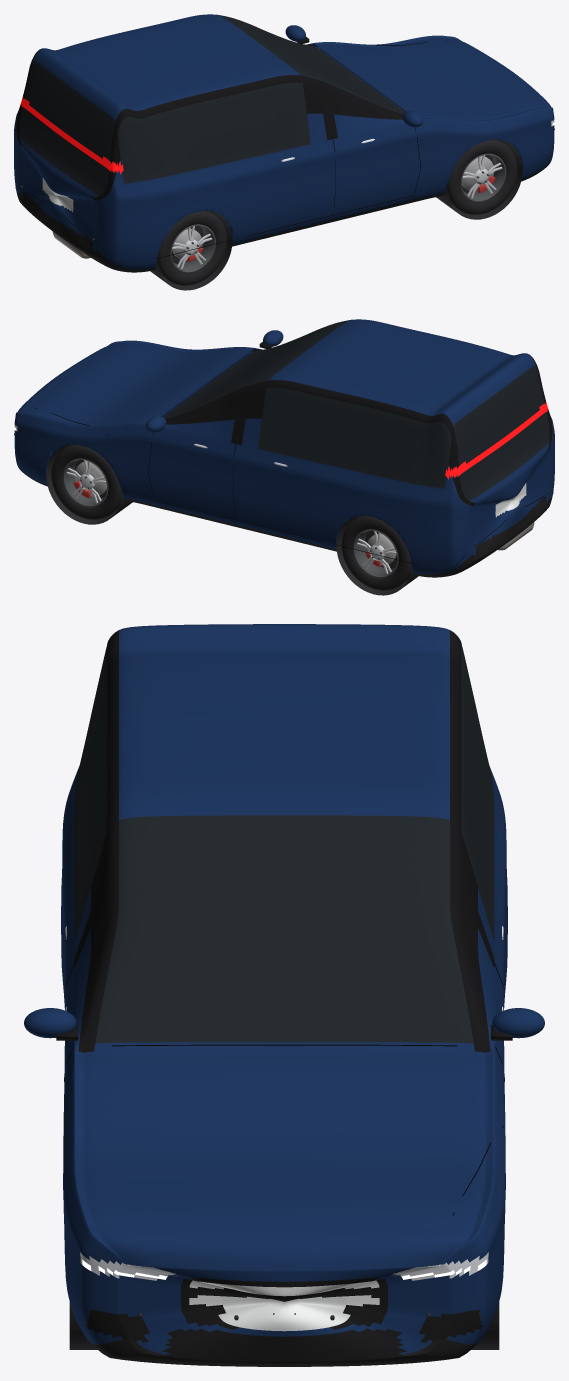
File: van.glb
3 renders of one model, top to bottom at view 1: azimuth 30°, elevation 25°; view 2: azimuth 150°, elevation 25°; view 3: azimuth 270°, elevation 25°, orthographic. The views are drawn at different scales.
Parts seen in each view (by area): view 1: karosserie, bt:rad_hr, bt:rad_vr, radhausschale.001, radhausschale.003, bt:bremse_vr, bt:bremse_hr; view 2: karosserie, bt:rad_hl, bt:rad_vl, radhausschale, radhausschale.002, bt:bremse_vl, bt:bremse_hl; view 3: karosserie, spiegel_1, spiegel_-1.
Part boxes in pixels (x1,y1,x2,y2): karosserie: [14, 14, 554, 272]; bt:rad_hr: [157, 211, 227, 285]; bt:rad_vr: [447, 139, 517, 214]; radhausschale.001: [436, 140, 522, 219]; radhausschale.003: [150, 211, 232, 290]; bt:bremse_vr: [462, 156, 495, 193]; bt:bremse_hr: [172, 229, 203, 261]; karosserie: [14, 319, 554, 577]; bt:rad_hl: [341, 516, 411, 590]; bt:rad_vl: [51, 444, 121, 519]; radhausschale: [46, 445, 132, 524]; radhausschale.002: [336, 516, 418, 595]; bt:bremse_vl: [73, 461, 106, 498]; bt:bremse_hl: [365, 534, 396, 566]; karosserie: [61, 624, 507, 1366]; spiegel_1: [492, 1008, 544, 1038]; spiegel_-1: [24, 1008, 76, 1038].
Bounding box in the file's own units: 4.51 × 1.73 × 2.17.
